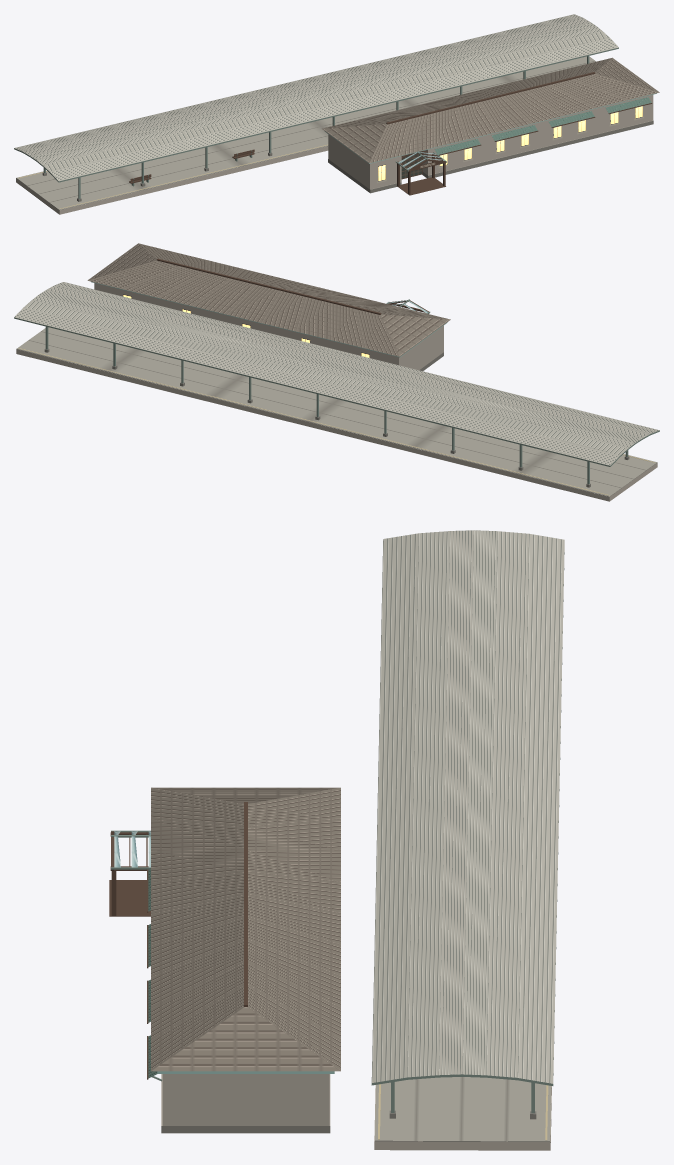
File: hamasen-railway-museum.glb
3 renders of one model, top to bottom at view 1: azimuth 30°, elevation 25°; view 2: azimuth 150°, elevation 25°; view 3: azimuth 270°, elevation 25°, orthographic. The views are drawn at different scales.
Visible parts, largest first — view 1: hamasen-railway-museum.001; view 2: hamasen-railway-museum.001; view 3: hamasen-railway-museum.001.
Part boxes in pixels (x1=…): hamasen-railway-museum.001: x1=14, y1=14, x2=659, y2=214; hamasen-railway-museum.001: x1=14, y1=243, x2=659, y2=501; hamasen-railway-museum.001: x1=109, y1=530, x2=564, y2=1150.
Size of the model in its own units: 70.57 by 5.56 by 24.93.
Materials: 1 (1 with a texture image).
